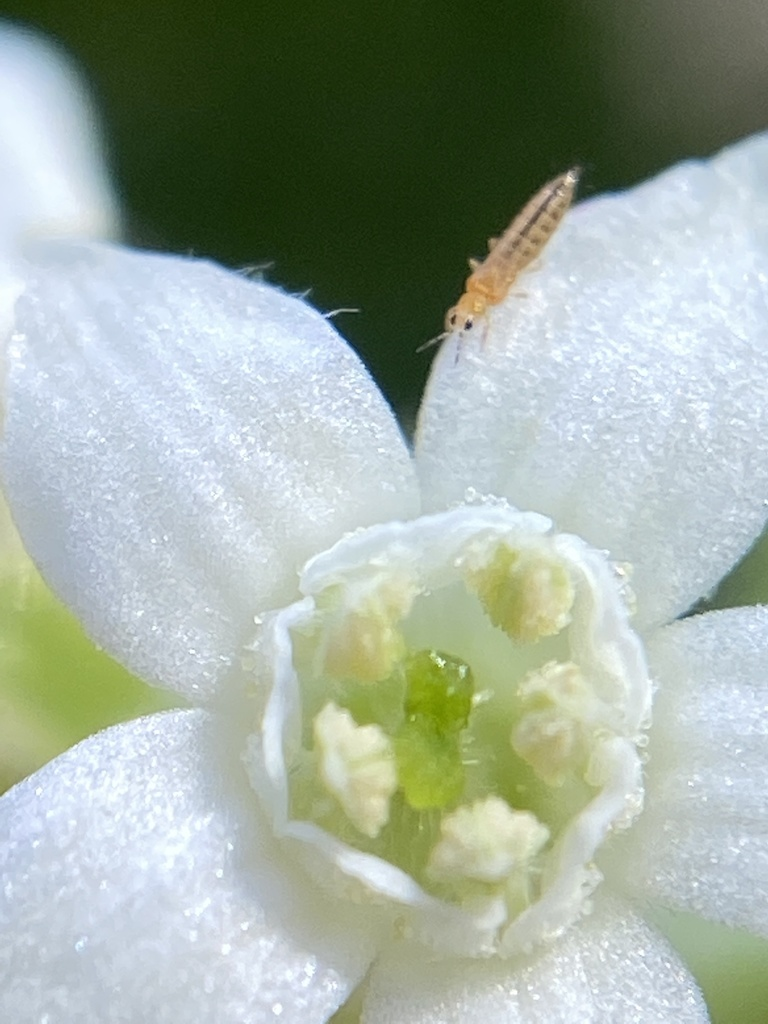tiny_pests: (359, 116, 637, 411)
